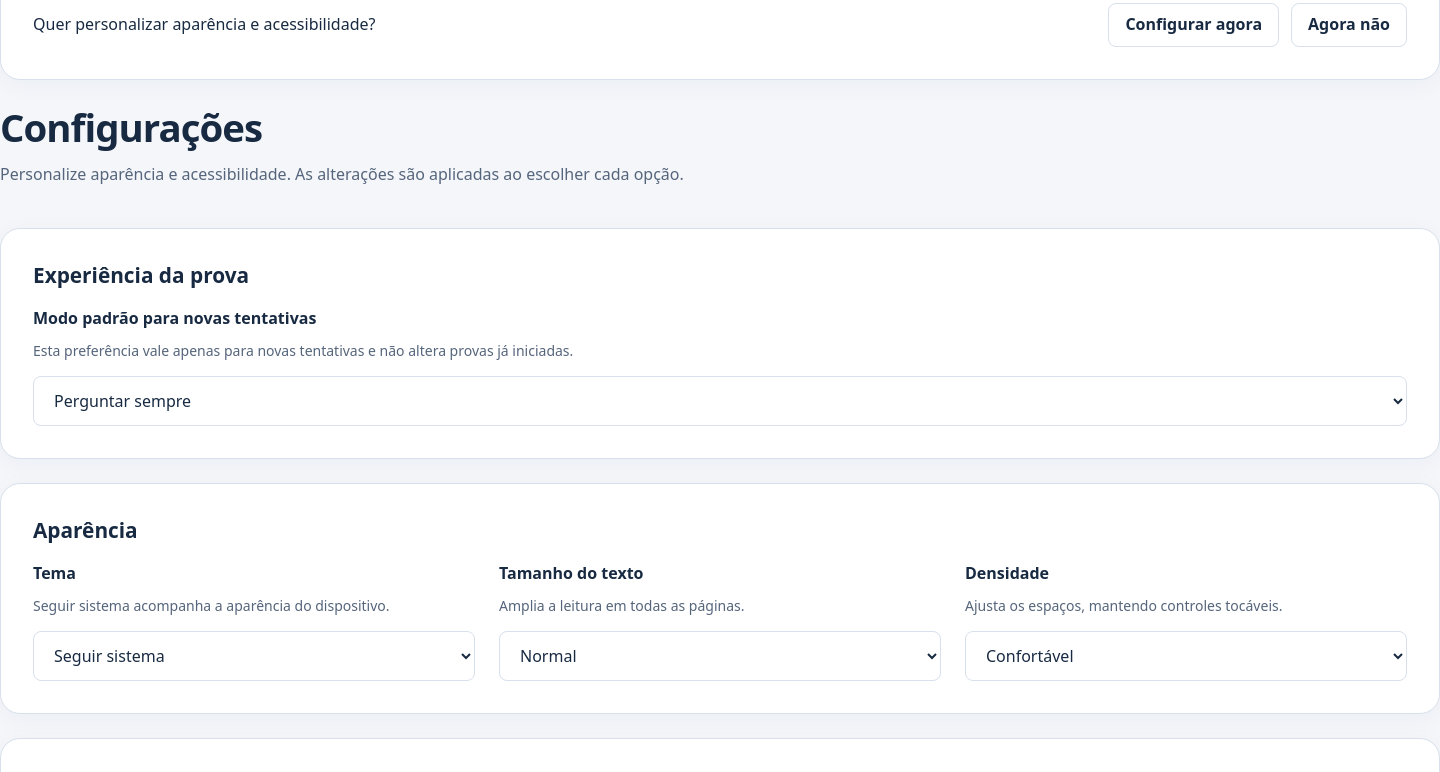
Test: configurações e primeiro uso opcional › storage bloqueado aplica em memória e convite dispensa durante a sessão
Step 1. Select "Médio" in the dropdown labelled "Tamanho do texto" → (720, 656), box [499,631,941,681]
(page scrolled)
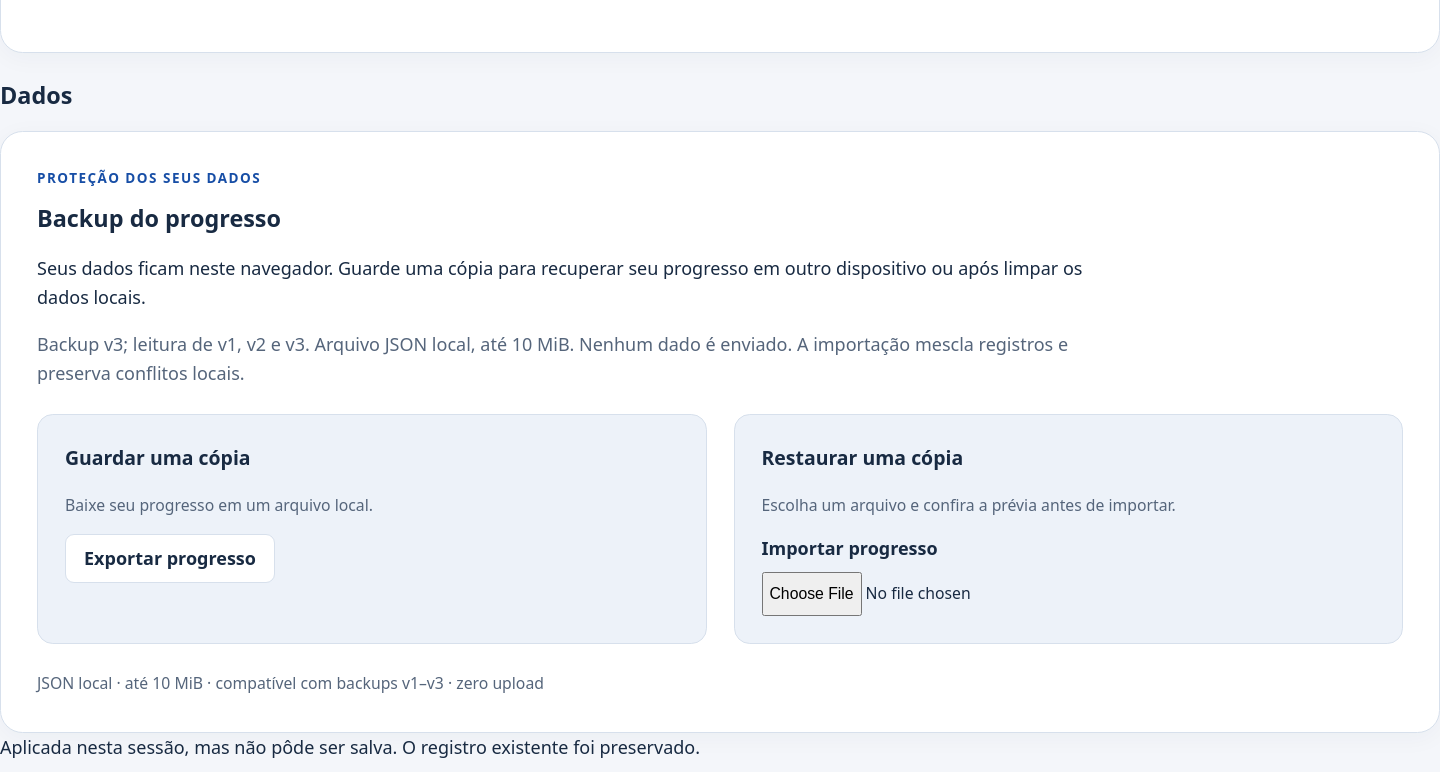
Expected: the message shows "Aplicada nesta sessão, mas não pôde ser salva", [0,735,700,759]
